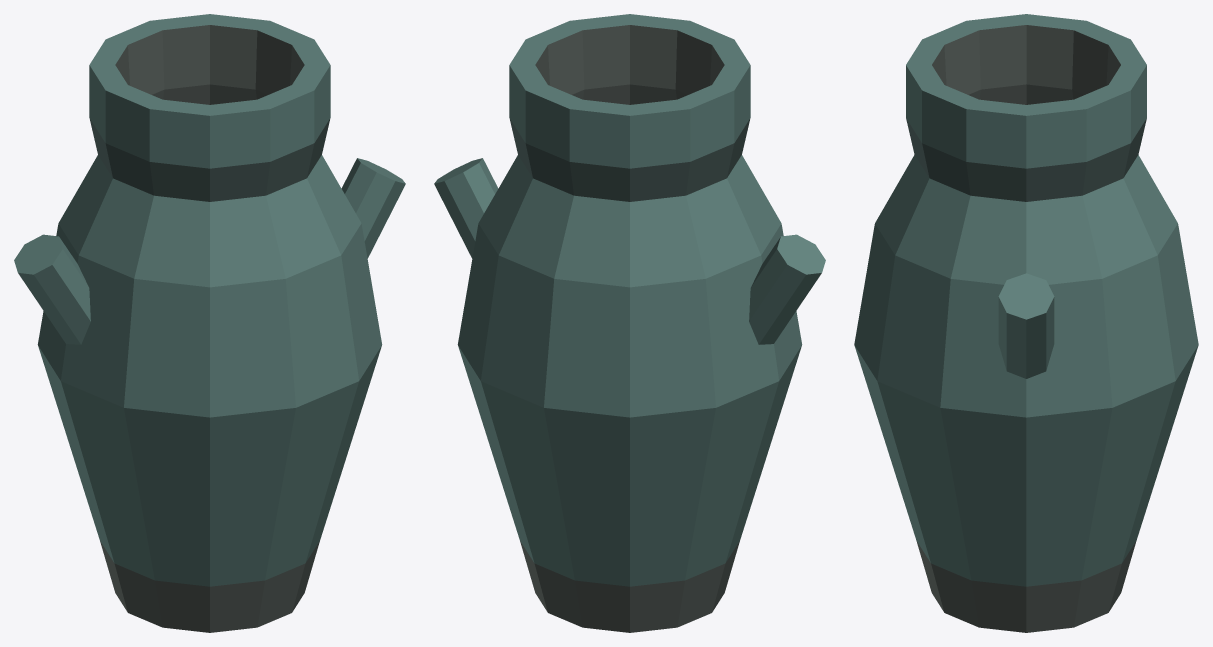
The model's file is urn-tall.glb.
The picture shows the model from 3 angles, left to right: view 1: azimuth 30°, elevation 25°; view 2: azimuth 150°, elevation 25°; view 3: azimuth 270°, elevation 25°; orthographic projection.
Parts seen in each view (by area): view 1: urn-tall__body; view 2: urn-tall__body; view 3: urn-tall__body.
Boxes of the visible parts, x1,y1,x2,y2 form: urn-tall__body: (14,14,405,632); urn-tall__body: (434,14,825,632); urn-tall__body: (854,14,1198,632).
Bounding box in the file's own units: 0.876 × 1.15 × 0.68.
